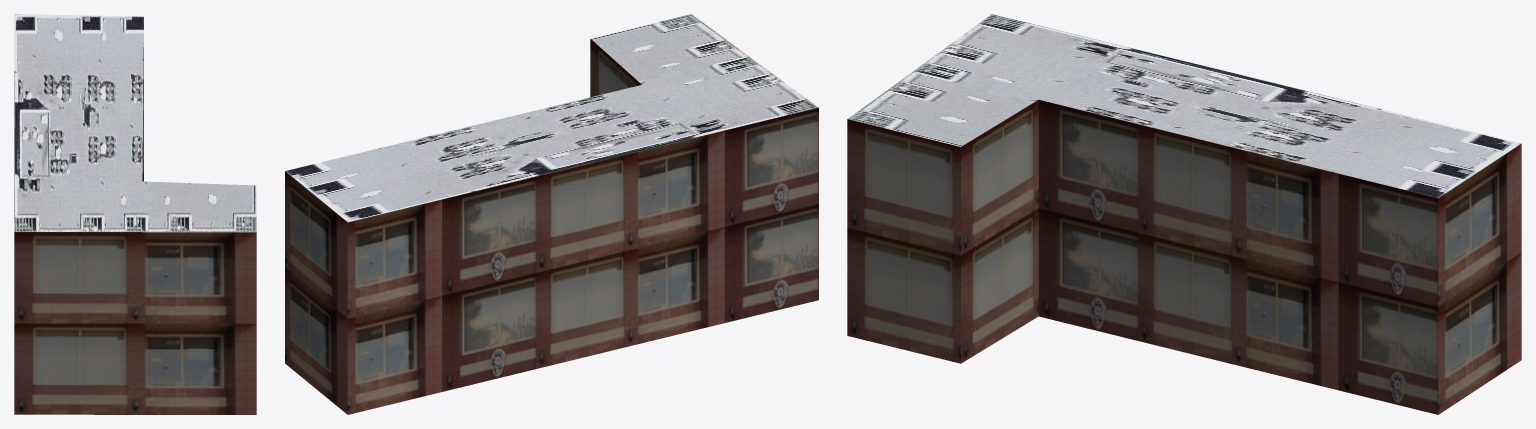
Rendered from ResTex__1833.fbx.
The picture shows the model from 3 angles, left to right: view 1: azimuth 30°, elevation 25°; view 2: azimuth 150°, elevation 25°; view 3: azimuth 270°, elevation 25°; orthographic projection. The views are drawn at different scales.
Parts seen in each view (by area): view 1: CityEngineMaterial_13_m, CityEngineMaterial_m; view 2: CityEngineMaterial_13_m, CityEngineMaterial_m; view 3: CityEngineMaterial_13_m, CityEngineMaterial_m.
Part boxes in pixels (x1,y1,x2,y2): CityEngineMaterial_13_m: (14, 47, 256, 414); CityEngineMaterial_m: (14, 14, 256, 232); CityEngineMaterial_13_m: (285, 39, 818, 414); CityEngineMaterial_m: (285, 14, 818, 222); CityEngineMaterial_13_m: (847, 99, 1521, 414); CityEngineMaterial_m: (848, 14, 1521, 197).
Bounding box in the file's own units: 10.93 × 6 × 16.92.
Materials: 2 (2 with a texture image).
